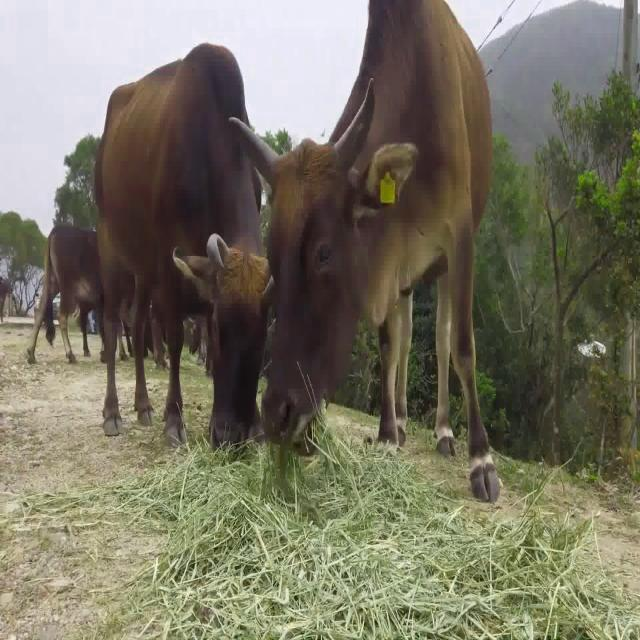cow: (230, 0, 499, 501), (96, 44, 269, 447)
